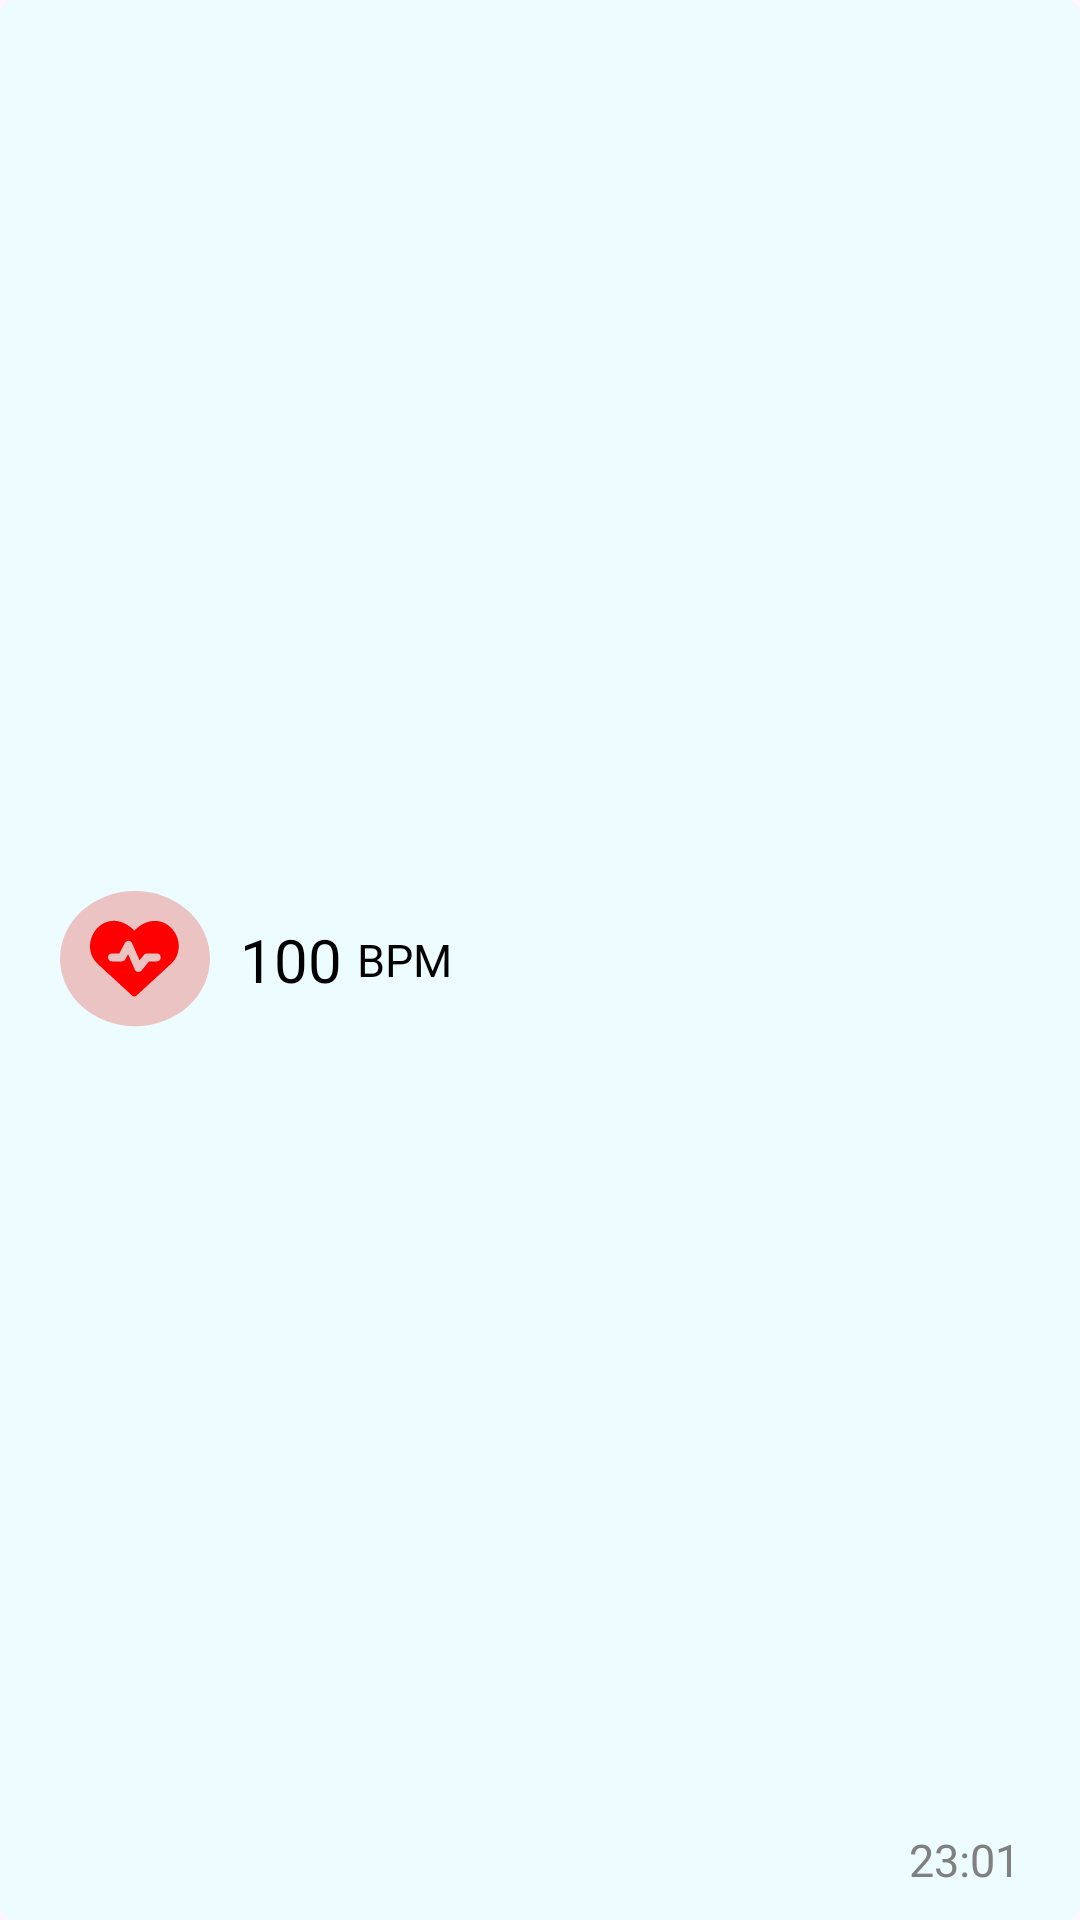

Named icons in this screenshot (1080px×1920px) and their centers, (x=x, y=y):
heart rate: (x=135, y=958)
